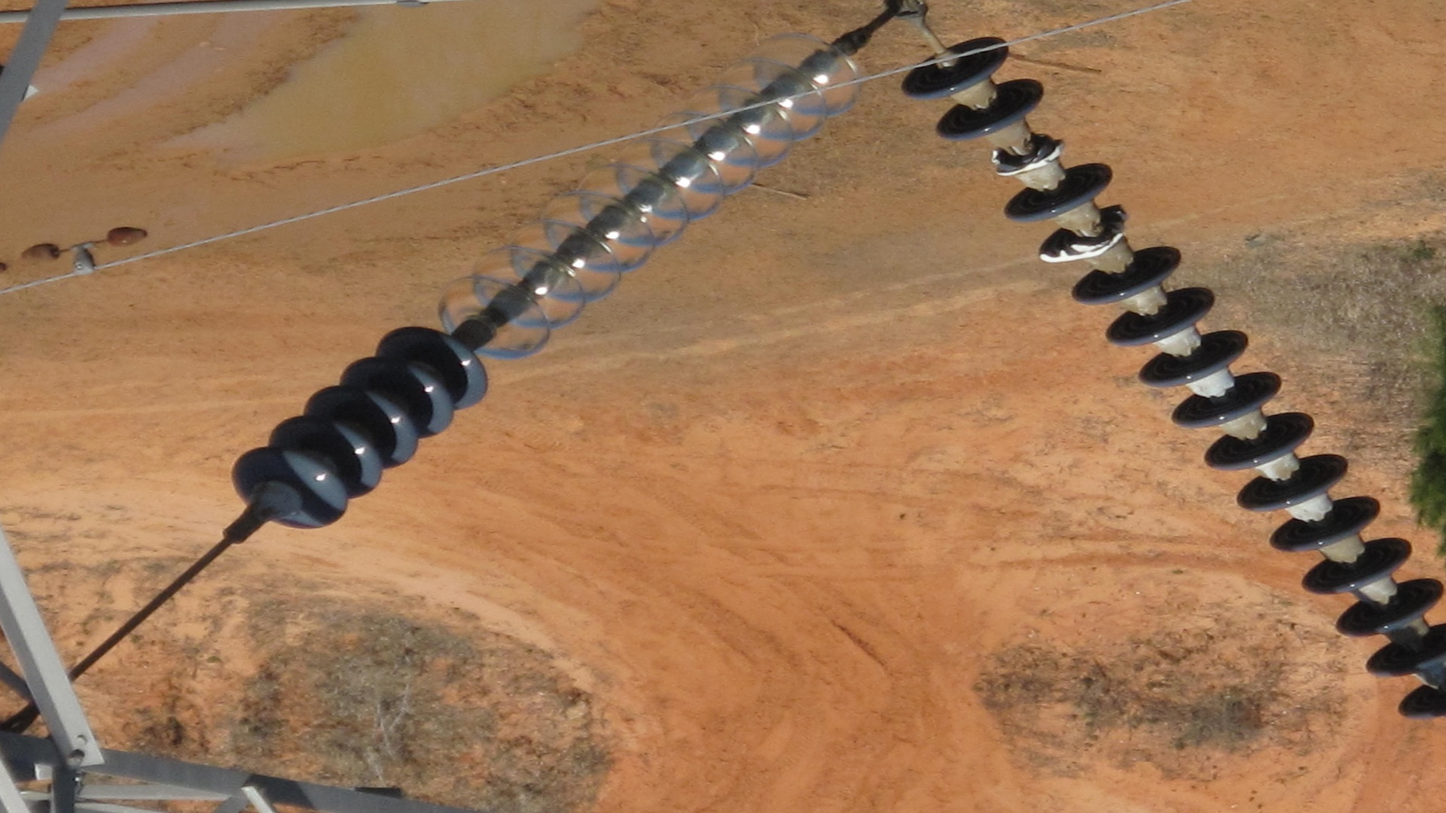insulator: (896, 31, 1446, 725), (226, 320, 495, 536)
insulator_breakage: (1038, 200, 1131, 266), (990, 134, 1066, 178)
